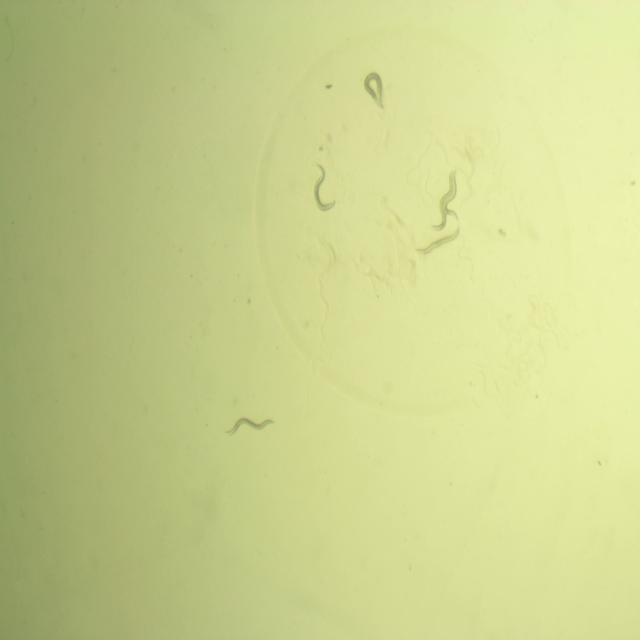worm: (411, 222, 464, 261), (428, 166, 457, 235), (310, 160, 340, 216), (223, 411, 277, 442), (440, 167, 464, 224), (361, 68, 388, 116)
